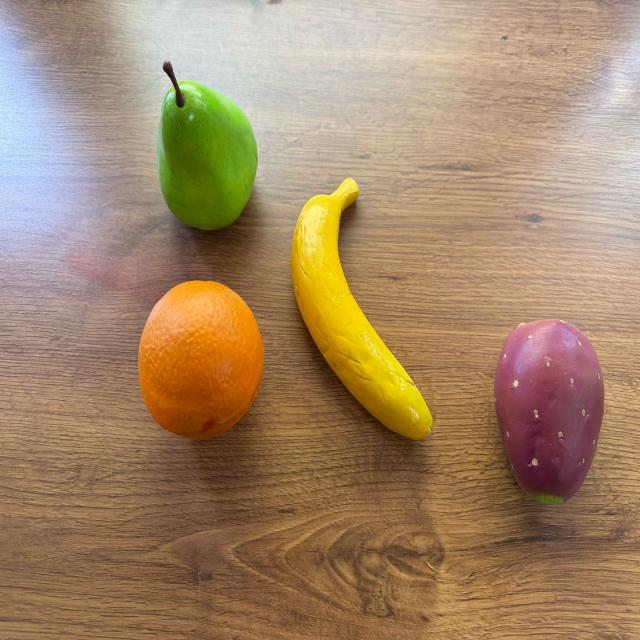banana: (290, 177, 434, 442)
orange: (137, 280, 263, 442)
pear: (157, 59, 258, 230)
tuna: (492, 319, 604, 506)
